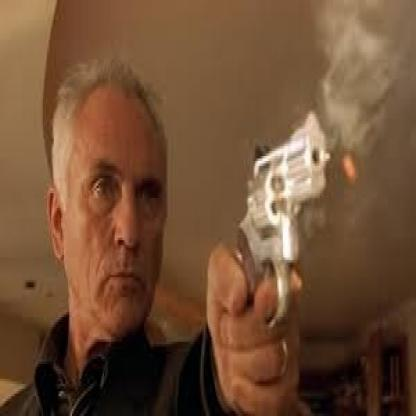Pistol: (215, 102, 350, 340)
